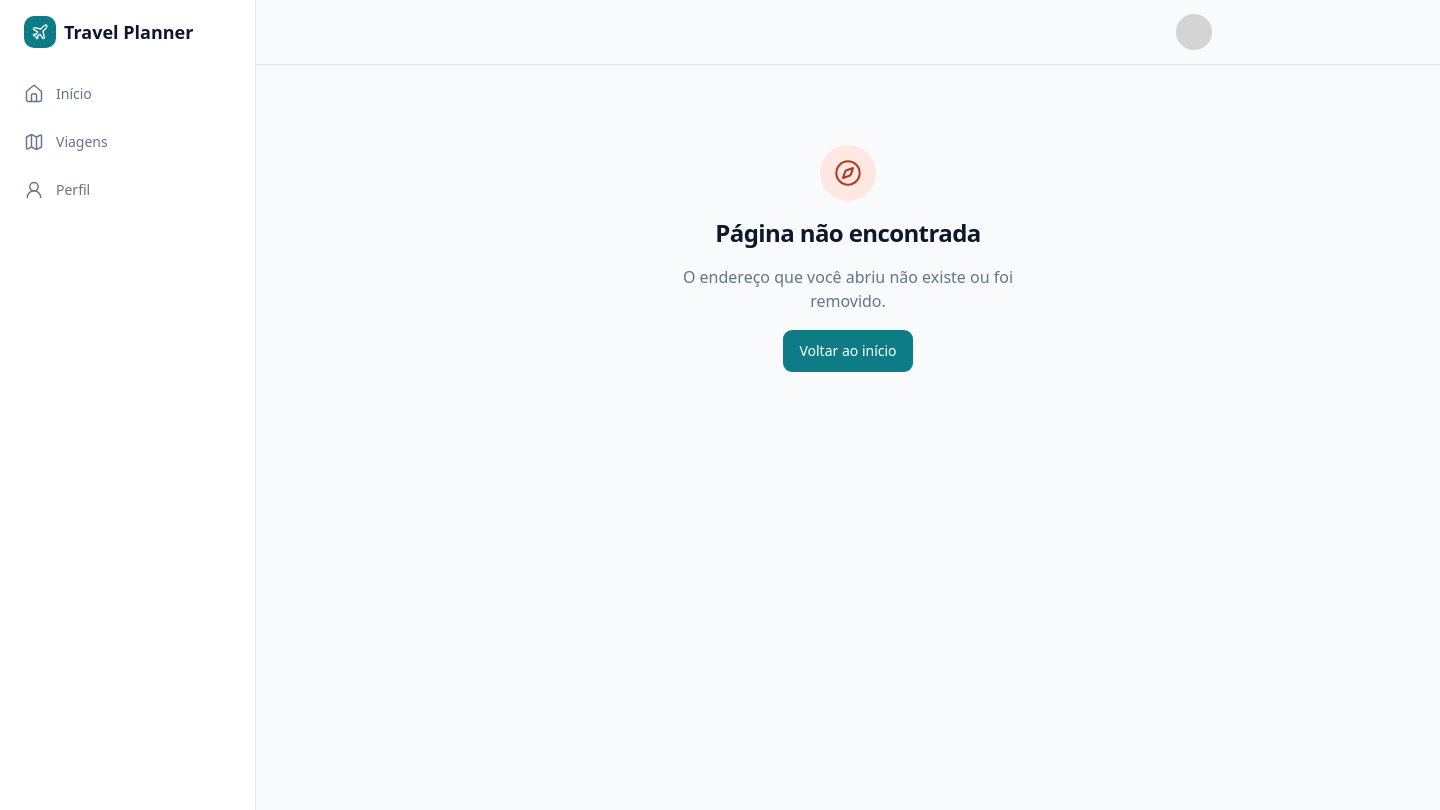
Scenario: AppLayout › mostra a página 404 dentro do layout para rotas desconhecidas
The width and height of the screenshot is (1440, 810).
Expected: the heading "Página não encontrada" is shown, [715, 217, 981, 249]
Step 1. Click the link "Voltar ao início" → (848, 351), box [782, 329, 914, 373]
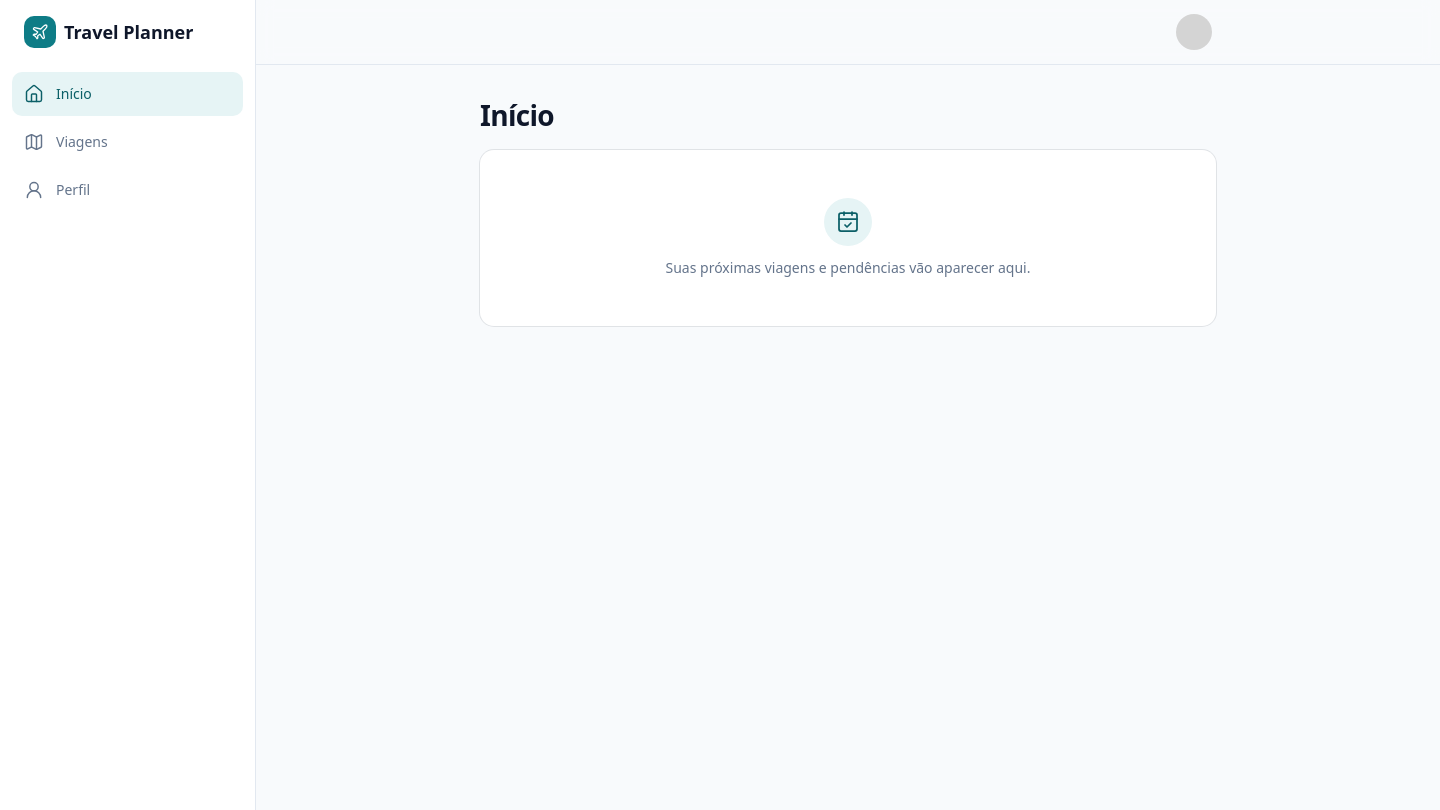
Expected: the heading "Início" is shown, [480, 97, 554, 134]
